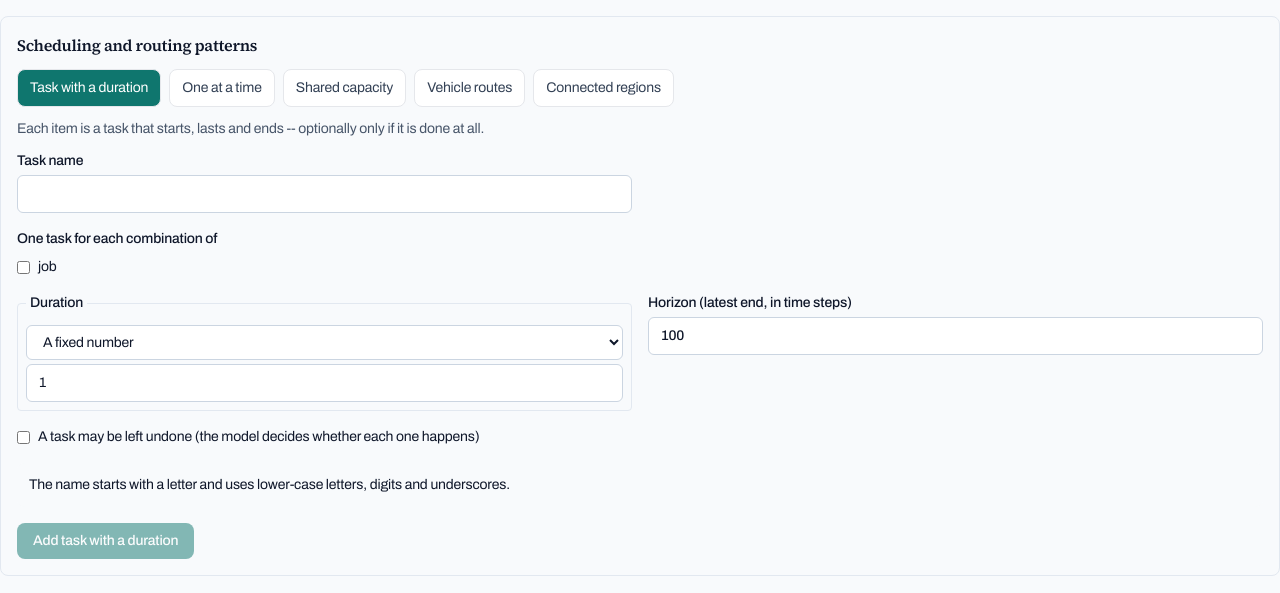
explains why a scheduling pattern cannot be added yet
This screenshot has width=1280, height=593.
Click the button "One at a time": (222, 88) [169, 69, 275, 107]
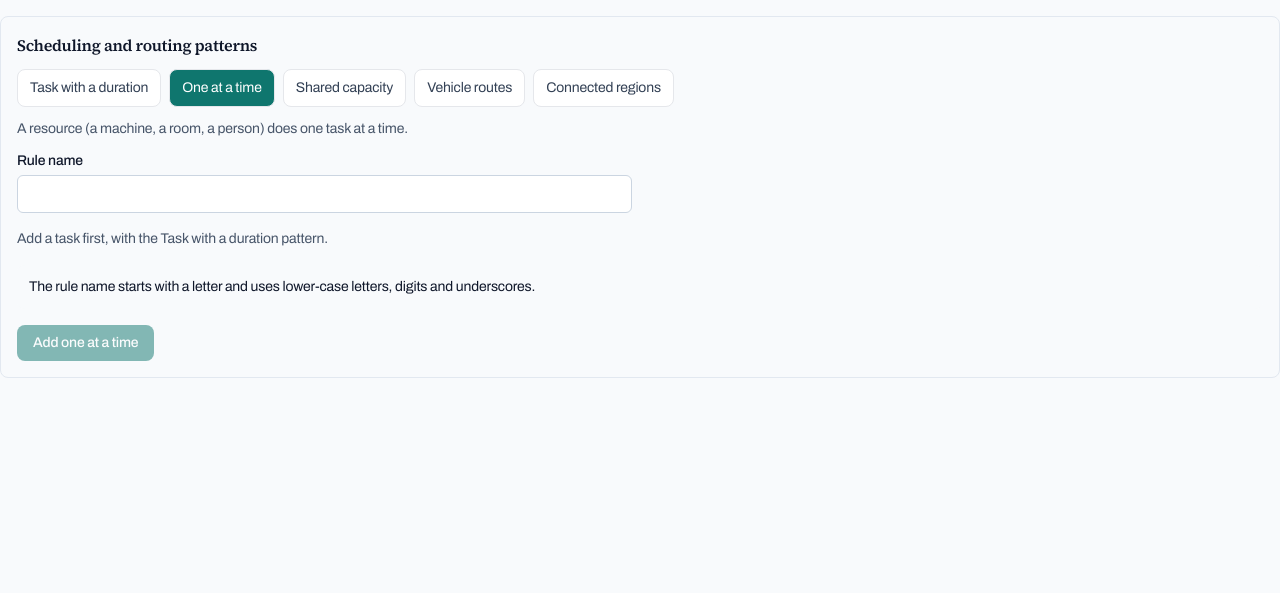
expect the button "Add one at a time" is disabled: met, box [17, 325, 154, 361]
expect the text "Add a task first, with the Task with a duration pattern." is shown: met, box [17, 231, 328, 246]
